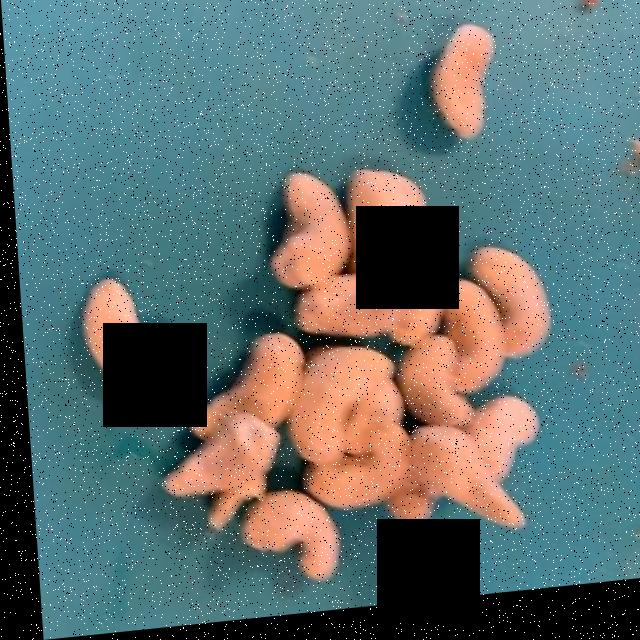cashew-nut: (83, 29, 541, 594)
